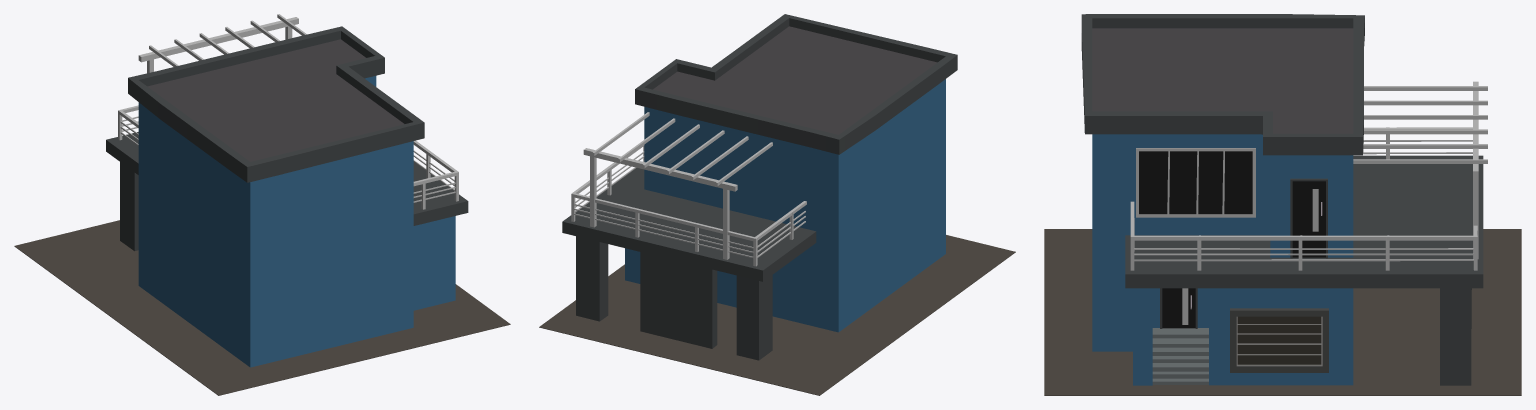
Rendered from Building_House2_Blue.fbx.
3 views of the same model, side by side, from view 1: azimuth 30°, elevation 25°; view 2: azimuth 150°, elevation 25°; view 3: azimuth 270°, elevation 25° (orthographic). The views are drawn at different scales.
Parts seen in each view (by area): view 1: Cube, Plane; view 2: Cube, Plane; view 3: Cube, Plane, Plane.001.
Boxes of the visible parts, x1=… form: Cube: x1=106, y1=14, x2=468, y2=367; Plane: x1=14, y1=220, x2=510, y2=395; Cube: x1=562, y1=14, x2=957, y2=360; Plane: x1=539, y1=235, x2=1015, y2=395; Cube: x1=1081, y1=14, x2=1487, y2=385; Plane: x1=1044, y1=229, x2=1521, y2=395; Plane.001: x1=1230, y1=308, x2=1328, y2=372.
Bounding box in the file's own units: 1100 × 743 × 1333.
